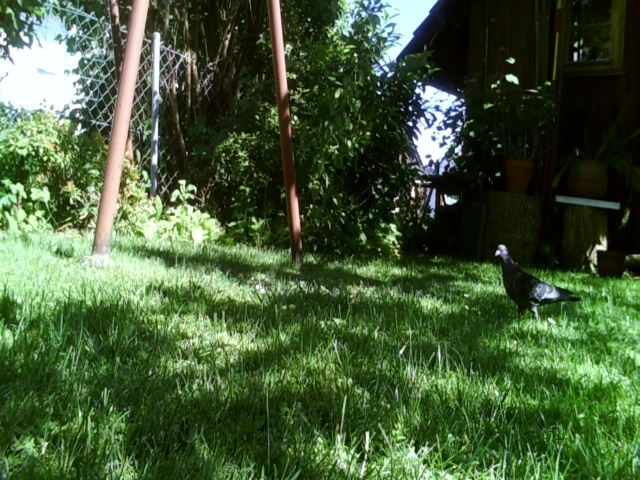Pigeon: (487, 241, 578, 328)
